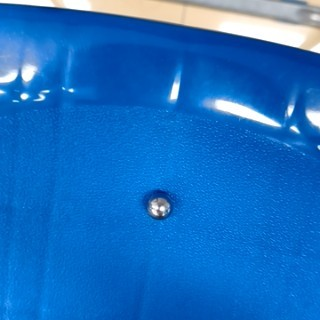ironball: (136, 190, 178, 227)
